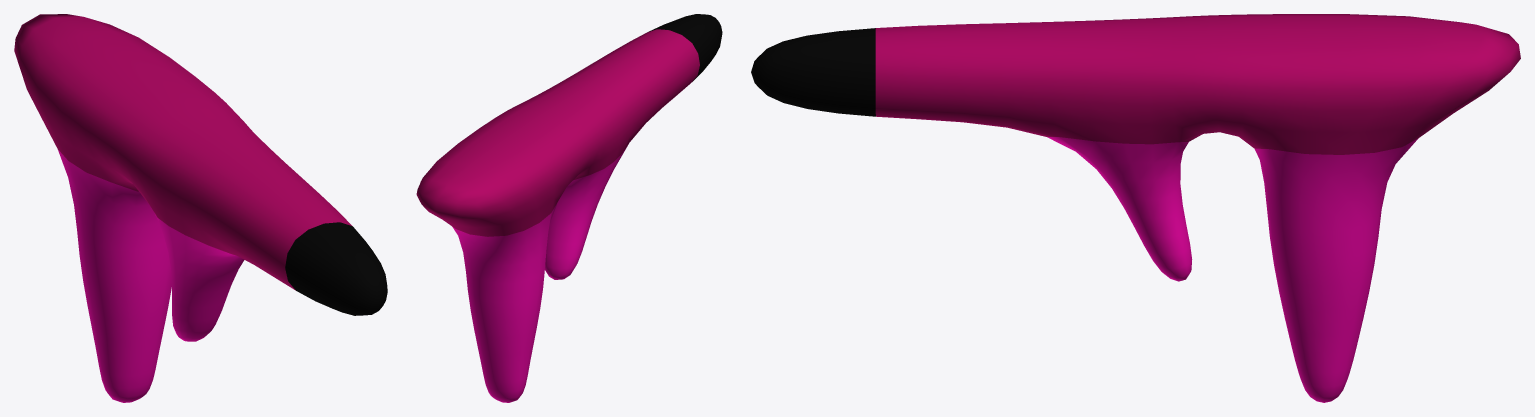
The model's file is TheHeartyBlaster.fbx.
3 views of the same model, side by side, from view 1: azimuth 30°, elevation 25°; view 2: azimuth 150°, elevation 25°; view 3: azimuth 270°, elevation 25° (orthographic). The views are drawn at different scales.
Parts seen in each view (by area): view 1: Cube; view 2: Cube; view 3: Cube.
Part boxes in pixels (x1,y1,x2,y2): Cube: (14, 14, 387, 402); Cube: (416, 14, 722, 402); Cube: (751, 14, 1520, 402).
Size of the model in its own units: 52.09 by 132 by 249.
